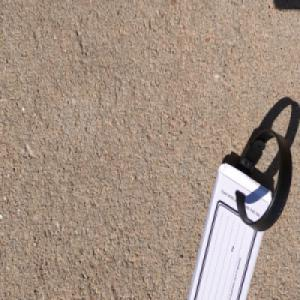LuggageTag: (183, 125, 289, 300)
